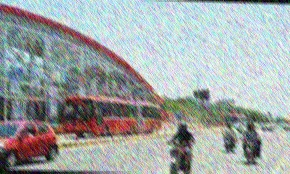bus: (61, 95, 163, 139)
